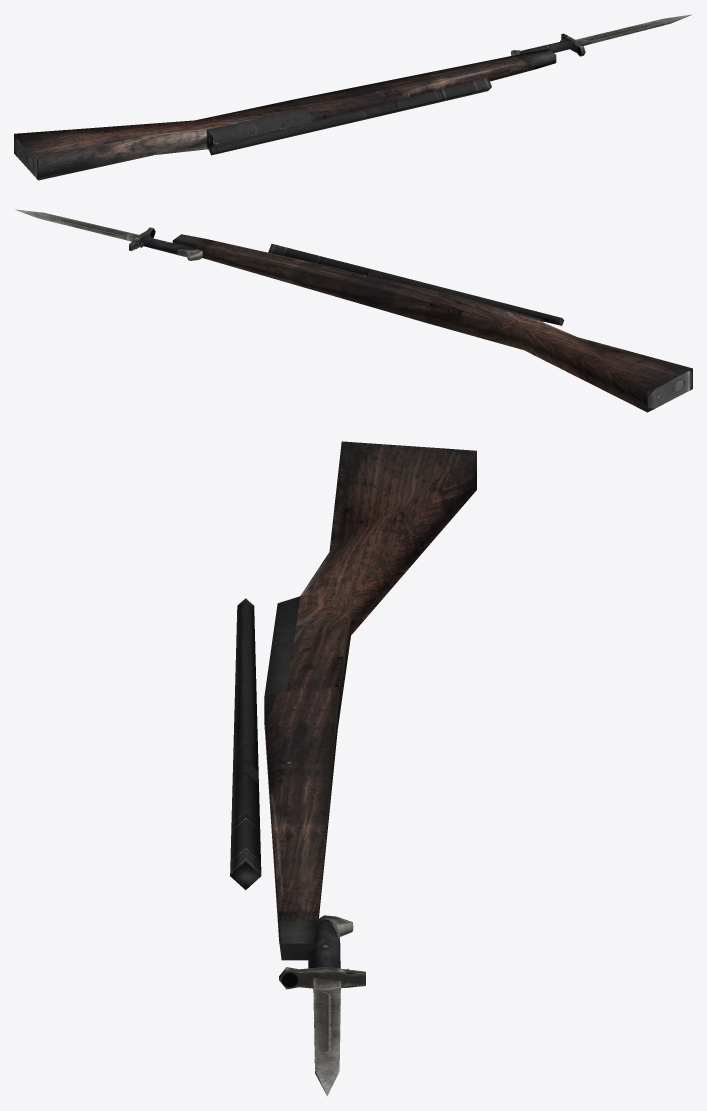
File: weapon_usa_springfield_rifle_scoped_bayonet_LOD21.obj
The picture shows the model from 3 angles, top to bottom: view 1: azimuth 30°, elevation 25°; view 2: azimuth 150°, elevation 25°; view 3: azimuth 270°, elevation 25°; orthographic projection. The views are drawn at different scales.
Visible parts, largest first — view 1: TomGroup_0, TomGroup_2, TomGroup_1; view 2: TomGroup_0, TomGroup_2, TomGroup_1; view 3: TomGroup_0, TomGroup_2, TomGroup_1.
Boxes of the visible parts, bbox=[...] form: TomGroup_0: bbox=[14, 49, 556, 180]; TomGroup_2: bbox=[209, 77, 491, 155]; TomGroup_1: bbox=[511, 14, 691, 56]; TomGroup_0: bbox=[172, 234, 692, 412]; TomGroup_2: bbox=[268, 244, 563, 325]; TomGroup_1: bbox=[15, 209, 202, 260]; TomGroup_0: bbox=[264, 441, 476, 960]; TomGroup_2: bbox=[230, 598, 261, 889]; TomGroup_1: bbox=[279, 915, 365, 1096].
Bounding box in the file's own units: 153 × 4.4 × 25.04.
Materials: 3 (3 with a texture image).
